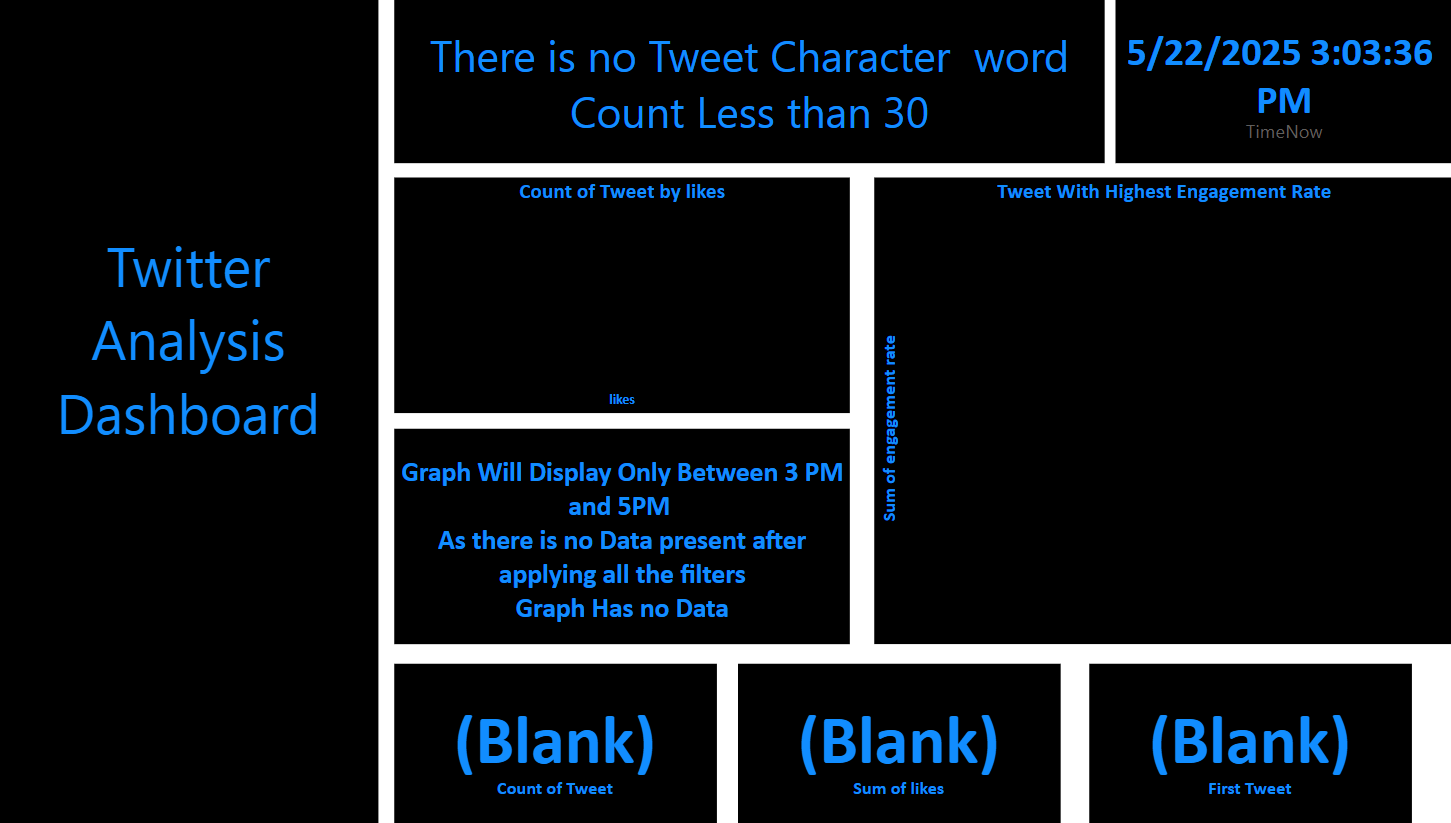

Layout of this report page (visuals, bound fields, positions):
{"tool":"powerbi","page":{"name":"Page 1","canvas":[1280,720],"ordinal":0},"visuals":[{"type":"textbox","box":[0,0,332.1,720.4],"z":0},{"type":"textbox","box":[345.8,0,620.2,142.7],"z":1000},{"type":"columnChart","fields":{"Category":["SocialMedia (1).likes"],"Y":["CountNonNull(SocialMedia (1).Tweet)"]},"box":[345.8,155.1,397.9,205.8],"z":2000},{"type":"lineChart","title":"Tweet With Highest Engagement Rate","fields":{"Y":["Sum(SocialMedia (1).engagement rate)"],"Category":["SocialMedia (1).Tweet"]},"box":[764.3,155.1,506.3,407.5],"z":3000},{"type":"card","fields":{"Values":["CountNonNull(SocialMedia (1).Tweet)"]},"box":[345.8,579.1,281.3,141.3],"z":4000},{"type":"card","fields":{"Values":["Sum(SocialMedia (1).likes)"]},"box":[646.3,579.1,281.3,141.3],"z":5000},{"type":"card","fields":{"Values":["Min(SocialMedia (1).Tweet)"]},"box":[952.3,579.1,281.3,141.3],"z":6000},{"type":"card","fields":{"Values":["SocialMedia (1).TimeNow"]},"box":[975.6,0,295,142.7],"z":7000},{"type":"textbox","box":[345.8,374.6,397.9,188],"z":8000}]}

Visuals, with their boxes in screenshot pixels (x1, y1, x2, y2), scaled from the page's 1280x720 canvas onto the 1451x823 screenshot:
textbox: 0/0/376/822
textbox: 392/0/1095/163
columnChart - SocialMedia (1).likes x CountNonNull(SocialMedia (1).Tweet): 392/177/843/413
"Tweet With Highest Engagement Rate" lineChart: 866/177/1440/643
card - CountNonNull(SocialMedia (1).Tweet): 392/662/711/822
card - Sum(SocialMedia (1).likes): 733/662/1052/822
card - Min(SocialMedia (1).Tweet): 1080/662/1398/822
card - SocialMedia (1).TimeNow: 1106/0/1440/163
textbox: 392/428/843/643
